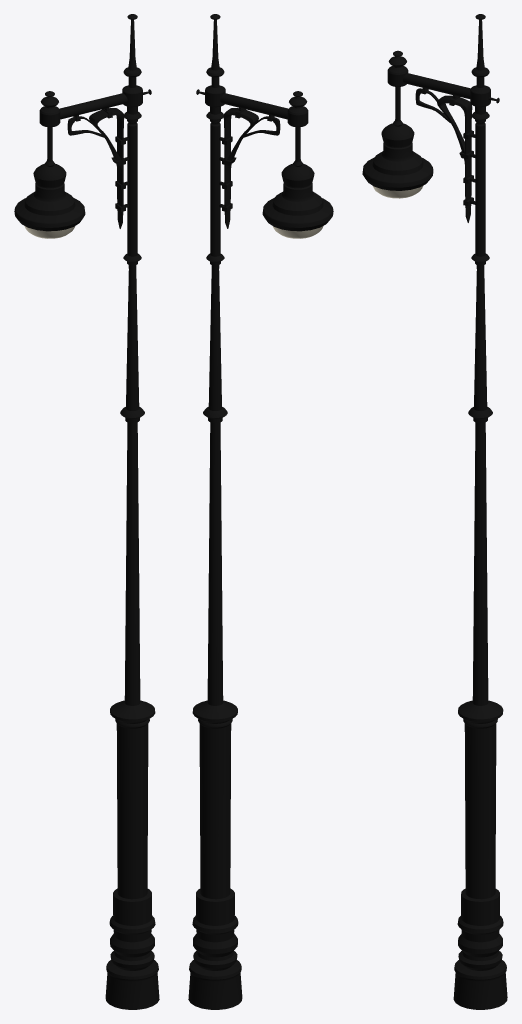
The model's file is lamp.glb.
3 renders of one model, left to right at view 1: azimuth 30°, elevation 25°; view 2: azimuth 150°, elevation 25°; view 3: azimuth 330°, elevation 25°, orthographic.
Parts seen in each view (by area): view 1: lamp; view 2: lamp; view 3: lamp.
Part boxes in pixels (x1=…): lamp: x1=14, y1=14, x2=159, y2=1009; lamp: x1=188, y1=14, x2=333, y2=1009; lamp: x1=362, y1=14, x2=507, y2=1009.
Size of the model in its own units: 0.3062 by 2.1 by 0.1383.
2 materials, 1 textured.
